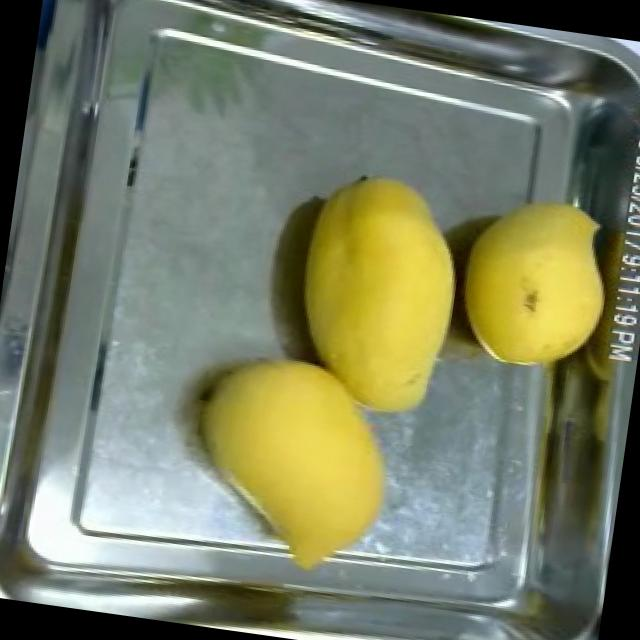fruit: (166, 331, 412, 589), (269, 154, 482, 440), (441, 180, 625, 388)
